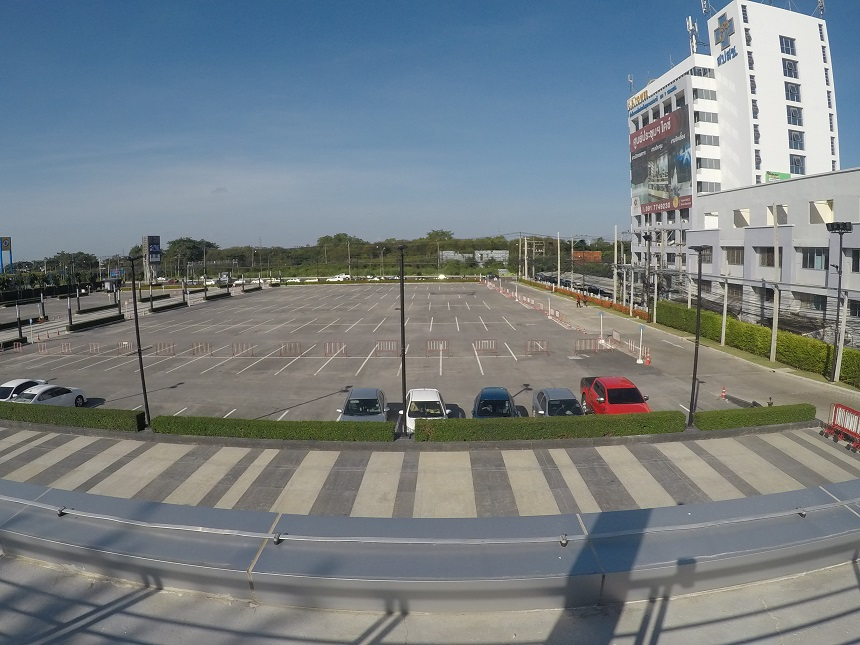busy: (589, 386, 648, 412), (474, 389, 516, 416), (534, 392, 580, 416), (344, 395, 388, 419), (31, 385, 80, 403), (405, 396, 444, 416), (1, 378, 16, 395)
